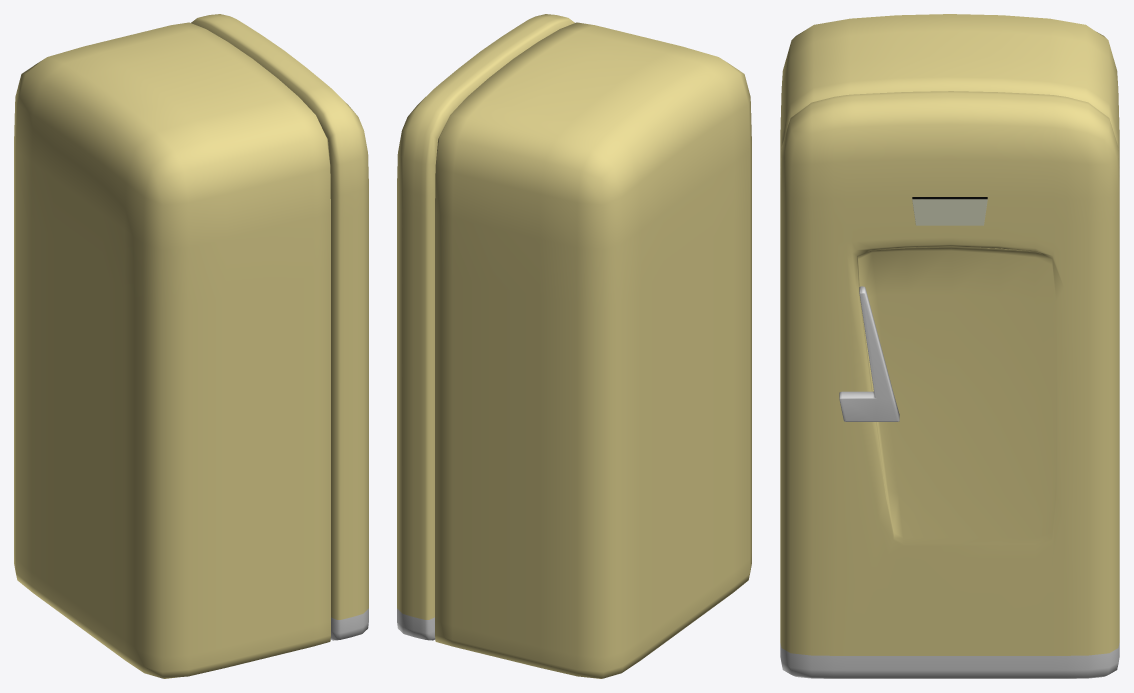
The model's file is Fridge.glb.
The picture shows the model from 3 angles, left to right: view 1: azimuth 30°, elevation 25°; view 2: azimuth 150°, elevation 25°; view 3: azimuth 270°, elevation 25°; orthographic projection. The views are drawn at different scales.
Visible parts, largest first — view 1: fridgeBody, door; view 2: fridgeBody, door; view 3: door, fridgeBody, handle, label.
Part boxes in pixels (x1=…): fridgeBody: x1=14, y1=22, x2=330, y2=678; door: x1=191, y1=14, x2=368, y2=640; fridgeBody: x1=435, y1=22, x2=751, y2=678; door: x1=397, y1=14, x2=574, y2=640; door: x1=780, y1=91, x2=1119, y2=678; fridgeBody: x1=780, y1=14, x2=1119, y2=174; handle: x1=839, y1=286, x2=899, y2=421; label: x1=912, y1=197, x2=987, y2=225.
Size of the model in its own units: 0.6758 by 1.47 by 0.7896.
4 materials, 1 textured.
